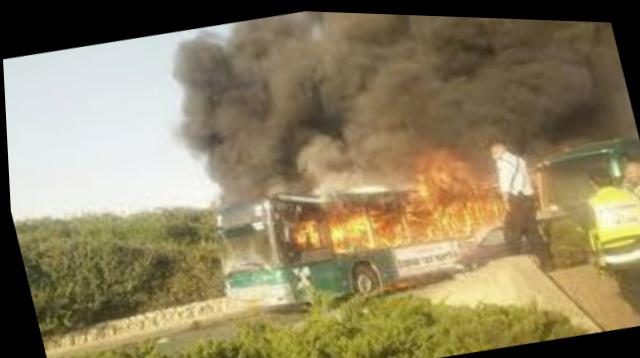fire: (258, 118, 530, 273)
